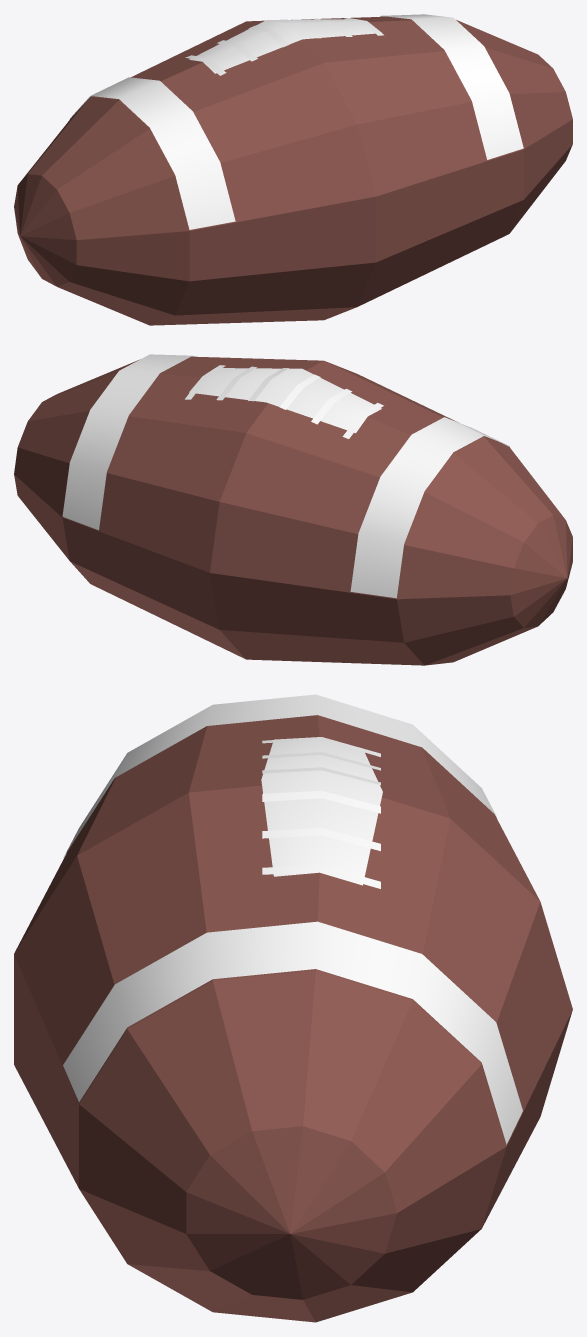
Rendered from Rugby_Ball.fbx.
3 renders of one model, top to bottom at view 1: azimuth 30°, elevation 25°; view 2: azimuth 150°, elevation 25°; view 3: azimuth 270°, elevation 25°, orthographic. The views are drawn at different scales.
Visible parts, largest first — view 1: Rugby_Ball; view 2: Rugby_Ball; view 3: Rugby_Ball.
Boxes of the visible parts, x1=… form: Rugby_Ball: x1=14, y1=14, x2=572, y2=325; Rugby_Ball: x1=14, y1=354, x2=572, y2=665; Rugby_Ball: x1=14, y1=694, x2=572, y2=1322.
Size of the model in its own units: 14.16 by 6.8 by 7.44.
